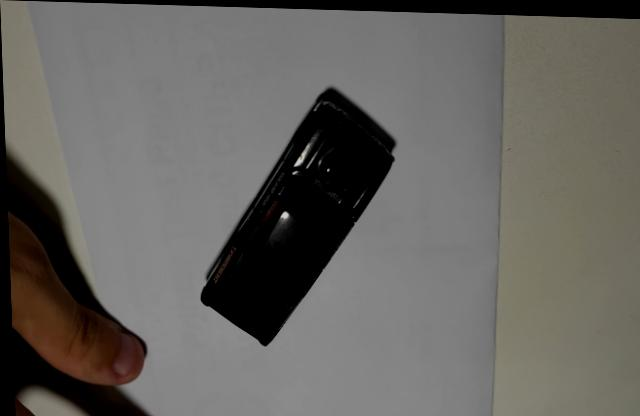01_FORD: (196, 84, 397, 344)
